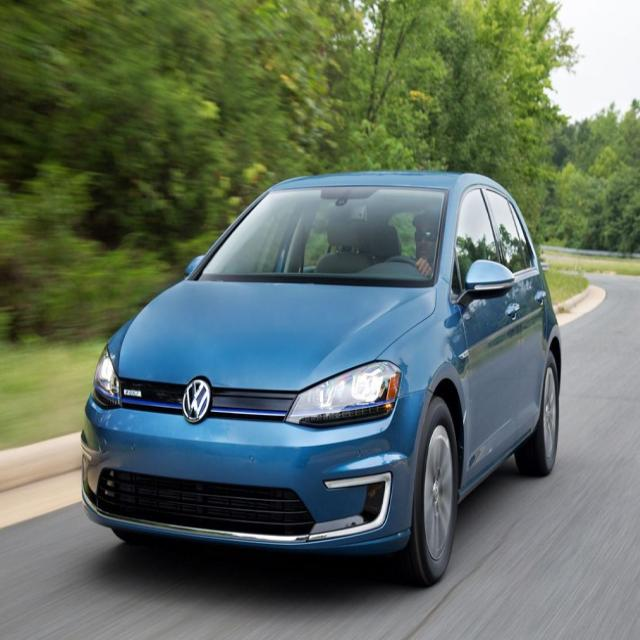front_bumper: (79, 394, 414, 551)
front_glass: (195, 182, 449, 286)
front_left_side_door: (458, 172, 520, 488)
front_left_side_light: (290, 358, 405, 429)
front_left_side_mirror: (460, 251, 516, 313)
front_right_side_light: (92, 344, 126, 407)
front_right_side_mirror: (184, 245, 201, 271)
wheel: (394, 396, 460, 582), (515, 350, 560, 478)
